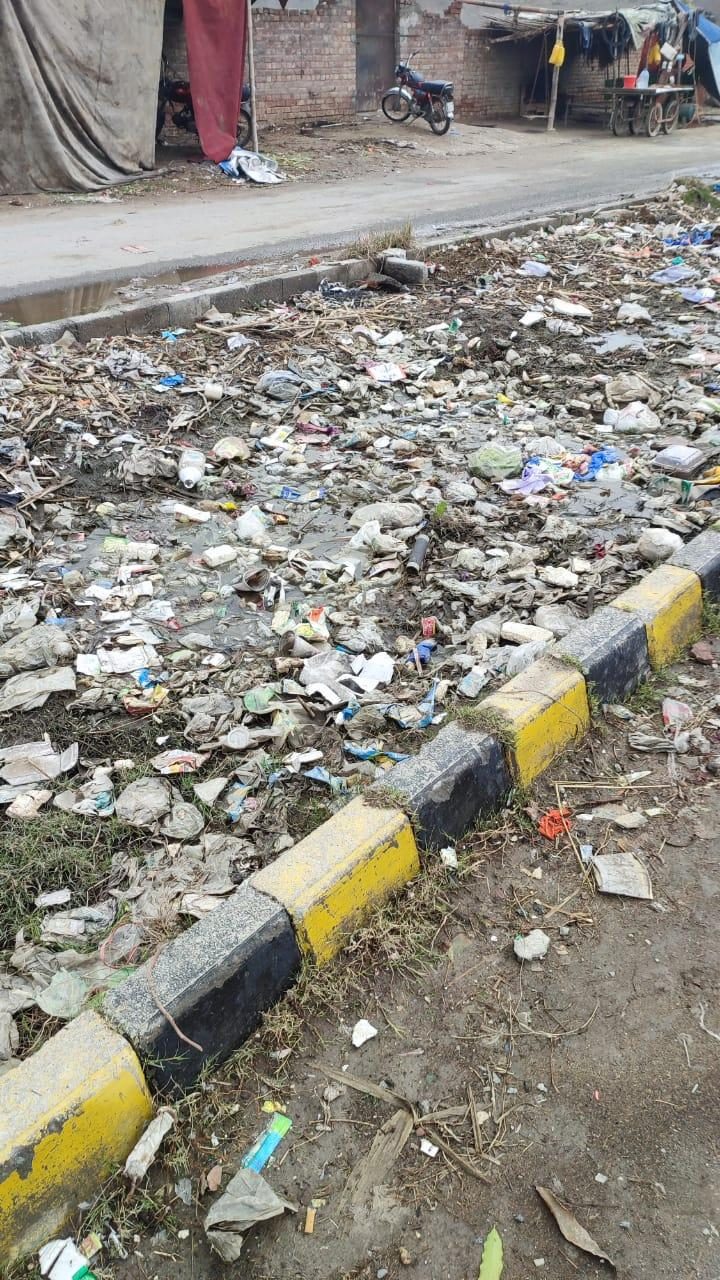garbage: (0, 213, 720, 875)
